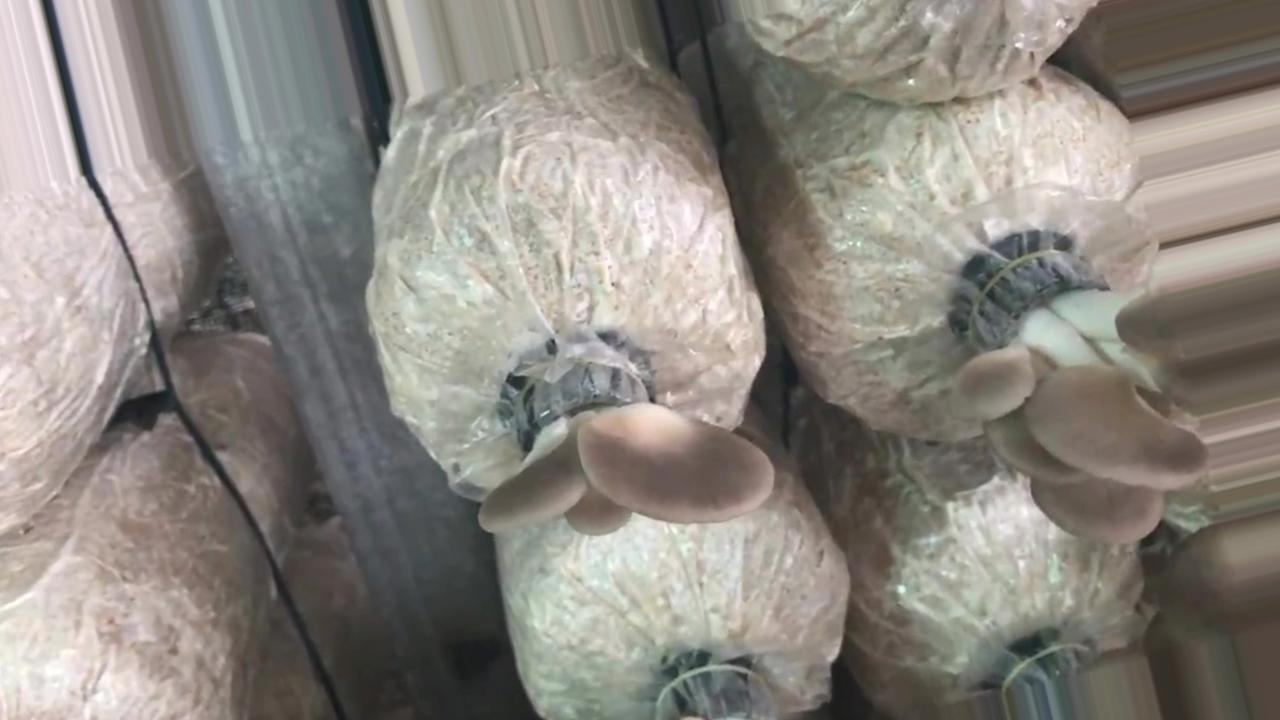nam: (957, 237, 1280, 539), (477, 342, 780, 541)
